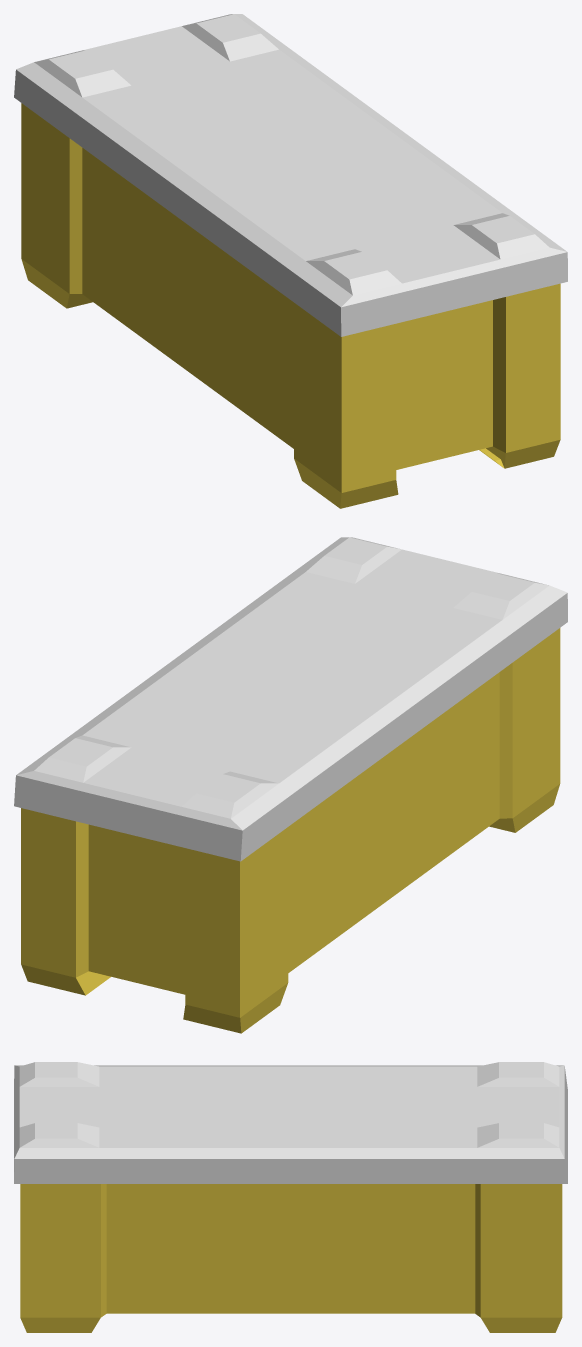
3 renders of one model, top to bottom at view 1: azimuth 30°, elevation 25°; view 2: azimuth 150°, elevation 25°; view 3: azimuth 270°, elevation 25°, orthographic. The views are drawn at different scales.
Parts seen in each view (by area): view 1: RL; view 2: RL; view 3: RL.
Boxes of the visible parts, bbox=[...] form: RL: bbox=[14, 14, 567, 508]; RL: bbox=[14, 537, 567, 1033]; RL: bbox=[14, 1062, 567, 1332].
Size of the model in its own units: 0.8 by 0.75 by 2.
